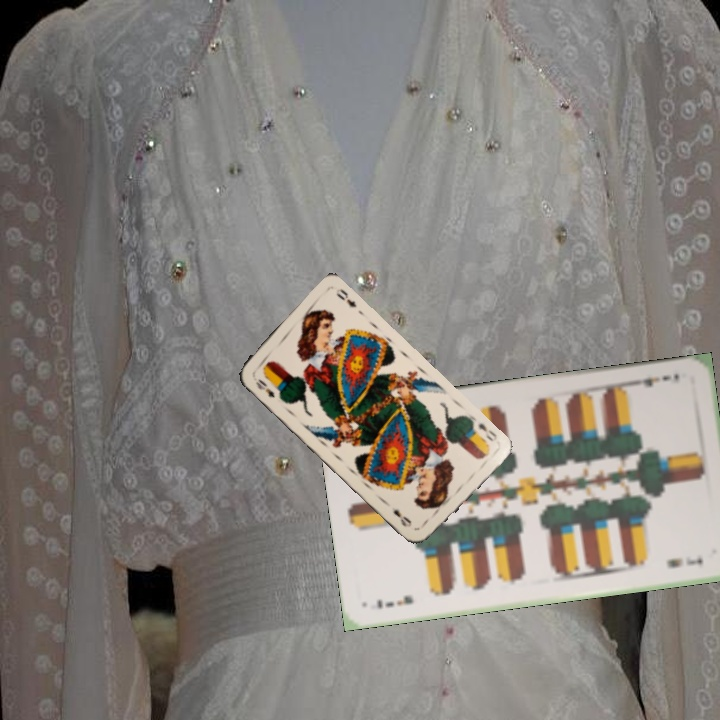E7: (629, 369, 681, 389), (373, 591, 415, 611)
EO: (468, 414, 499, 446), (251, 374, 277, 400)
